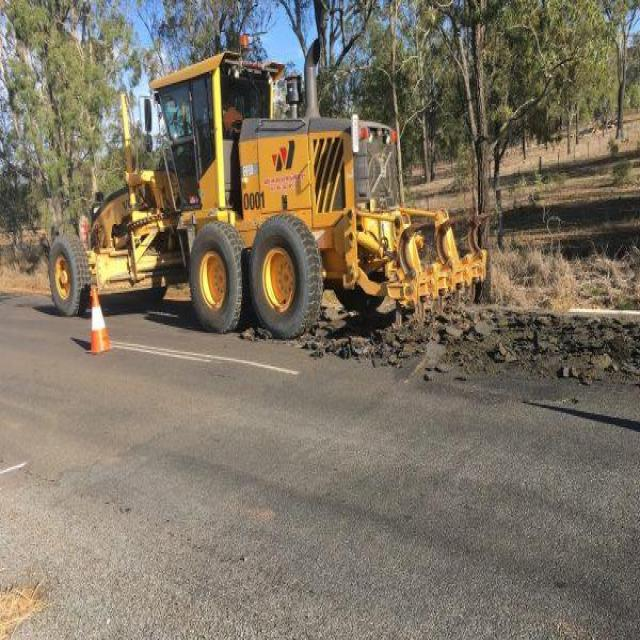Grader: (41, 41, 470, 326)
